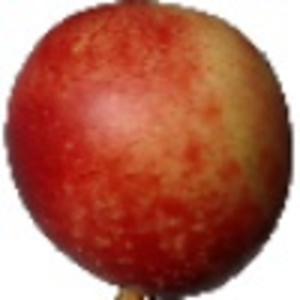nectarina: (3, 1, 300, 300)
